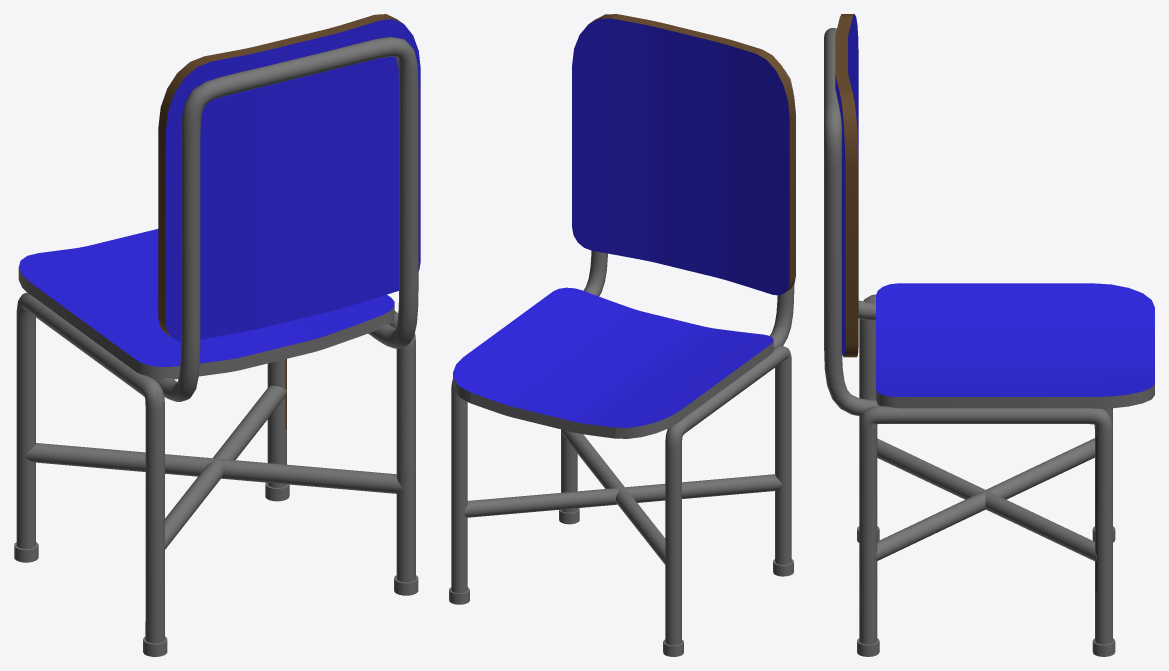
Rendered from sillaFinal.fbx.
3 views of the same model, side by side, from view 1: azimuth 30°, elevation 25°; view 2: azimuth 150°, elevation 25°; view 3: azimuth 270°, elevation 25° (orthographic). The views are drawn at different scales.
Parts seen in each view (by area): view 1: Cylinder.004; view 2: Cylinder.004; view 3: Cylinder.004.
Boxes of the visible parts, x1,y1,x2,y2 form: Cylinder.004: (14,14,420,656); Cylinder.004: (449,14,795,656); Cylinder.004: (824,14,1154,656).
Bounding box in the file's own units: 3255 × 6758 × 3744.
